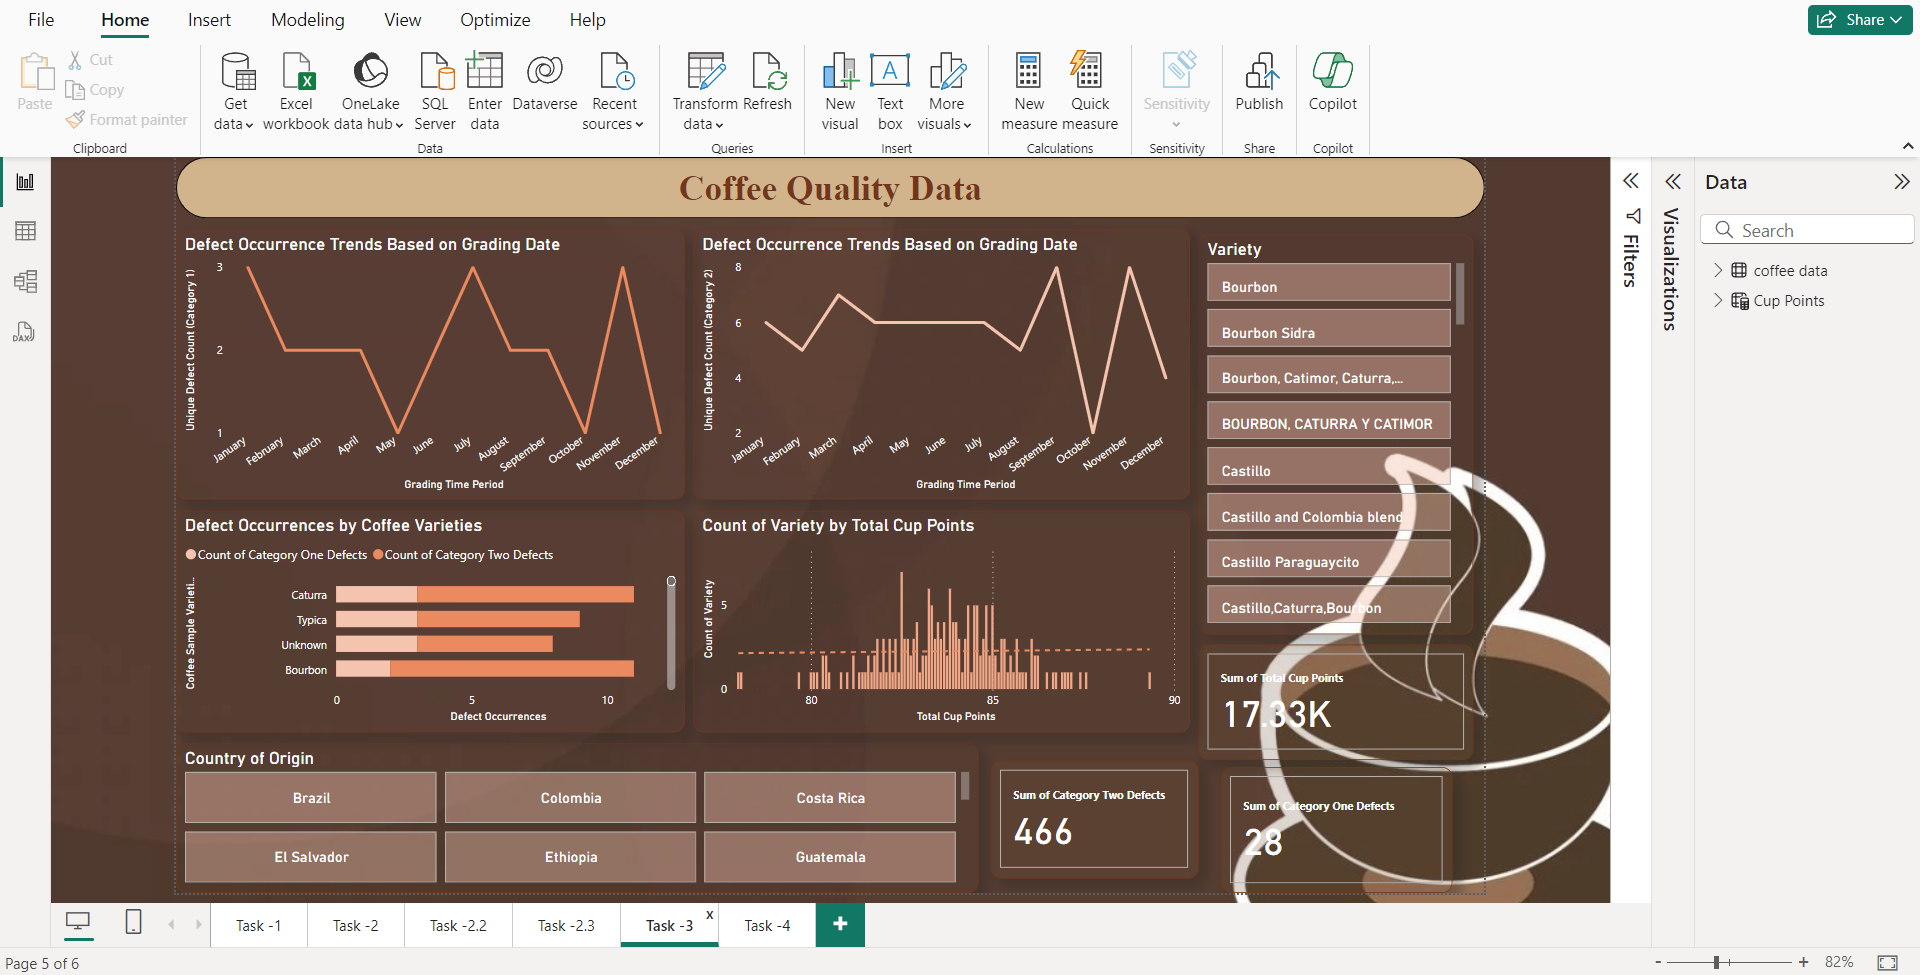

What the dashboard file says about the page in this screenshot:
{"tool":"powerbi","page":{"name":"Task -3","canvas":[1280,720],"ordinal":4},"visuals":[{"type":"shape","box":[0,0,1280.3,59.9],"z":0},{"type":"advancedSlicerVisual","fields":{"Values":["coffee data.Country of Origin"]},"box":[0,573.5,785.1,146.7],"z":1000},{"type":"advancedSlicerVisual","fields":{"Values":["coffee data.Variety"]},"box":[1000.3,75.8,269,391.3],"z":2000},{"type":"cardVisual","fields":{"Data":["Sum(coffee data.Total Cup Points)"]},"box":[1000.3,476.9,269,112.5],"z":3000},{"type":"lineChart","title":"Defect Occurrence Trends Based on Grading Date","fields":{"Y":["Count(coffee data.Category One Defects)"],"Category":["coffee data.Grading.Variation.Date Hierarchy.Year","coffee data.Grading.Variation.Date Hierarchy.Quarter","coffee data.Grading.Variation.Date Hierarchy.Month","coffee data.Grading.Variation.Date Hierarchy.Day"]},"box":[0,70.9,497.7,264.1],"z":4000},{"type":"lineChart","title":"Defect Occurrence Trends Based on Grading Date","fields":{"Category":["coffee data.Grading.Variation.Date Hierarchy.Year","coffee data.Grading.Variation.Date Hierarchy.Quarter","coffee data.Grading.Variation.Date Hierarchy.Month","coffee data.Grading.Variation.Date Hierarchy.Day"],"Y":["Count(coffee data.Category Two Defects)"]},"box":[506.3,70.9,485.5,264.1],"z":5000},{"type":"barChart","title":"Defect Occurrences by Coffee Varieties","fields":{"Y":["Count(coffee data.Category One Defects)","Count(coffee data.Category Two Defects)"],"Category":["coffee data.Variety"]},"box":[0,346.1,497.7,216.4],"z":6000},{"type":"lineClusteredColumnComboChart","title":"Count of Variety  by Total Cup Points","fields":{"Y":["Count(coffee data.Variety)"],"Category":["coffee data.Total Cup Points"]},"box":[506.3,346.1,485.5,216.4],"z":7000},{"type":"cardVisual","fields":{"Data":["Sum(coffee data.Category One Defects)"]},"box":[1022.3,596.7,226.2,123.5],"z":8000},{"type":"cardVisual","fields":{"Data":["Sum(coffee data.Category Two Defects)"]},"box":[797.3,590.6,203,114.9],"z":9000}]}

Visuals, with their boxes on the page's 1280x720 design canvas (x1, y1, x2, y2). These are canvas units, not pixel positions in the 1920x975 screenshot, which may show the page scaled, cropped or inside an application window:
shape: x1=0 y1=0 x2=1280 y2=60
advancedSlicerVisual - coffee data.Country of Origin: x1=0 y1=574 x2=785 y2=720
advancedSlicerVisual - coffee data.Variety: x1=1000 y1=76 x2=1269 y2=467
cardVisual - Sum(coffee data.Total Cup Points): x1=1000 y1=477 x2=1269 y2=589
"Defect Occurrence Trends Based on Grading Date" lineChart: x1=0 y1=71 x2=498 y2=335
"Defect Occurrence Trends Based on Grading Date" lineChart: x1=506 y1=71 x2=992 y2=335
"Defect Occurrences by Coffee Varieties" barChart: x1=0 y1=346 x2=498 y2=562
"Count of Variety  by Total Cup Points" lineClusteredColumnComboChart: x1=506 y1=346 x2=992 y2=562
cardVisual - Sum(coffee data.Category One Defects): x1=1022 y1=597 x2=1248 y2=720
cardVisual - Sum(coffee data.Category Two Defects): x1=797 y1=591 x2=1000 y2=706
